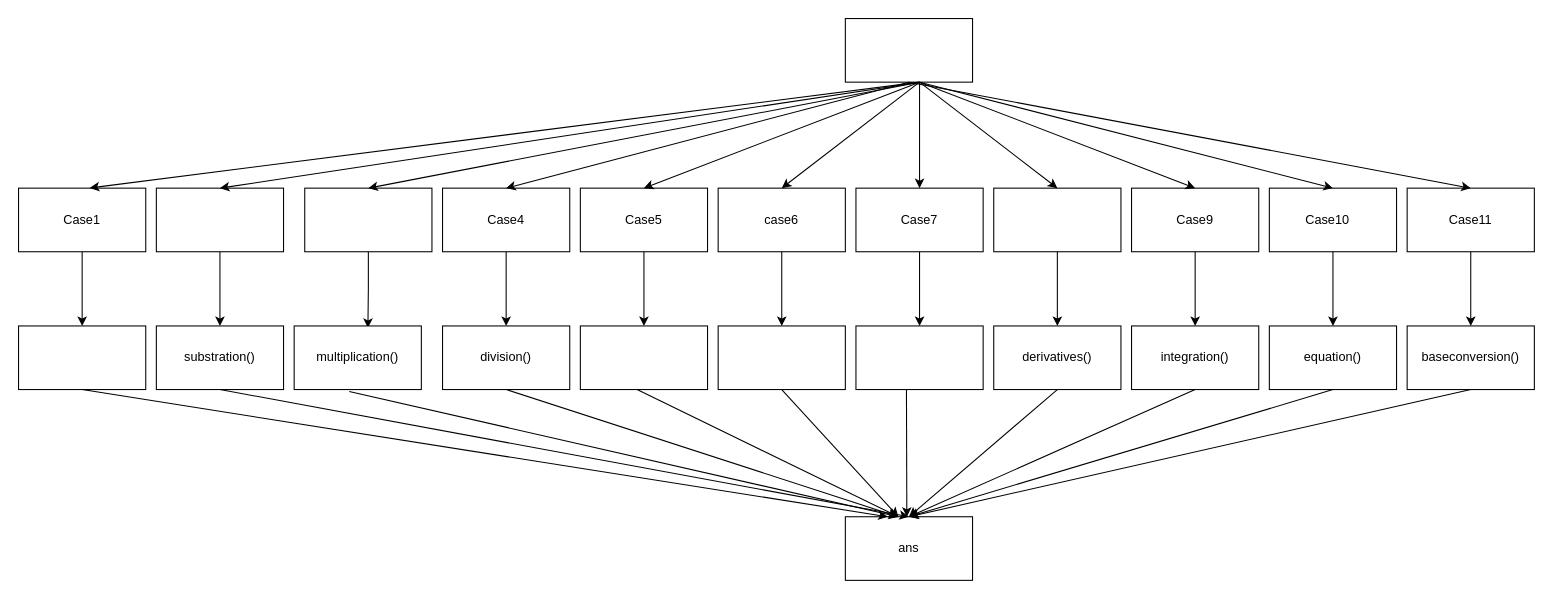
The diagram is 1553 pixels wide and 599 high, and some of its shapes have lost their labels. Here are the shapes that lost their labels. From the top down, the centre of each, then its label:
At point (908, 49): "main".
At point (219, 219): "Case2".
At point (368, 219): "Case3".
At point (1057, 219): "case8".
At point (81, 357): "addition()".
At point (643, 357): "modulus()".
At point (781, 357): "pow()".
At point (919, 357): "factorial()".
